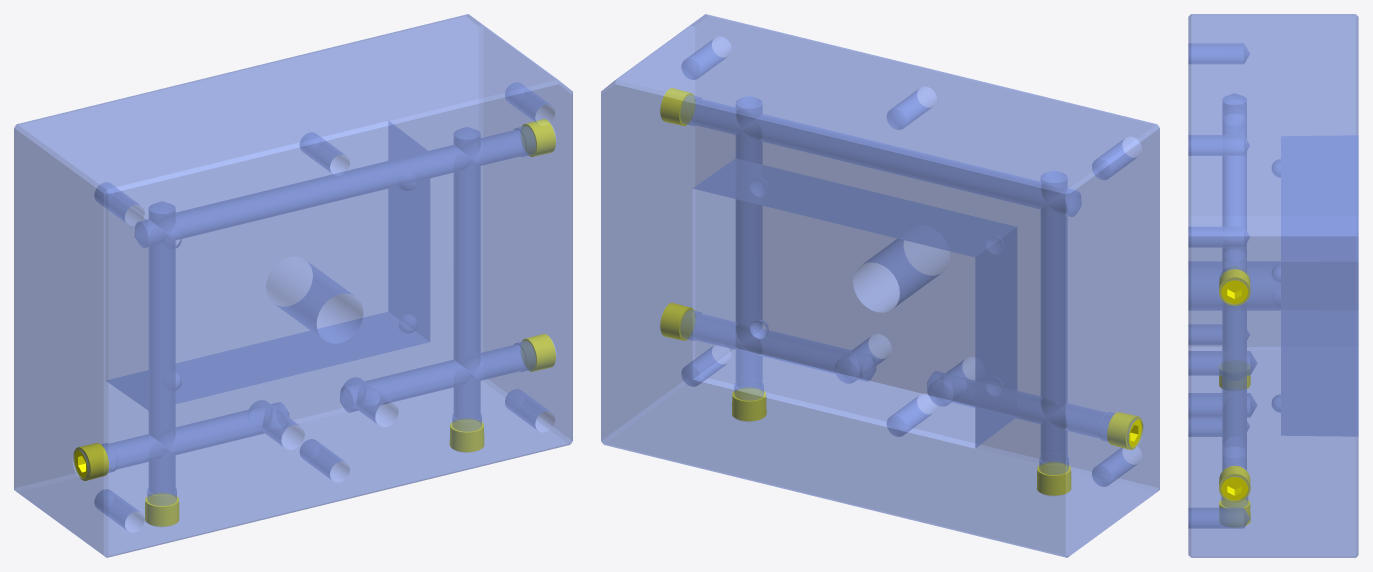
Rendered from cavity.glb.
3 views of the same model, side by side, from view 1: azimuth 30°, elevation 25°; view 2: azimuth 150°, elevation 25°; view 3: azimuth 270°, elevation 25° (orthographic). The views are drawn at different scales.
Parts seen in each view (by area): view 1: UM_CAVITY_BLOCK, cardcase_pipe_plug_089 (×2), cardcase_pipe_plug_088 (×2), cardcase_pipe_plug_090; view 2: UM_CAVITY_BLOCK, cardcase_pipe_plug_089 (×2), cardcase_pipe_plug_088 (×2), cardcase_pipe_plug_090; view 3: UM_CAVITY_BLOCK, cardcase_pipe_plug_089 (×2), cardcase_pipe_plug_088 (×2).
Boxes of the visible parts, bbox=[...] form: UM_CAVITY_BLOCK: bbox=[14, 14, 572, 557]; cardcase_pipe_plug_089 (×2): bbox=[521, 119, 555, 371]; cardcase_pipe_plug_088 (×2): bbox=[145, 419, 484, 526]; cardcase_pipe_plug_090: bbox=[73, 443, 108, 480]; UM_CAVITY_BLOCK: bbox=[601, 14, 1159, 557]; cardcase_pipe_plug_089 (×2): bbox=[660, 88, 695, 340]; cardcase_pipe_plug_088 (×2): bbox=[732, 388, 1071, 495]; cardcase_pipe_plug_090: bbox=[1107, 412, 1142, 449]; UM_CAVITY_BLOCK: bbox=[1188, 14, 1358, 557]; cardcase_pipe_plug_089 (×2): bbox=[1219, 269, 1250, 502]; cardcase_pipe_plug_088 (×2): bbox=[1219, 365, 1250, 526].
Size of the model in its own units: 0.16 by 0.12 by 0.055.
